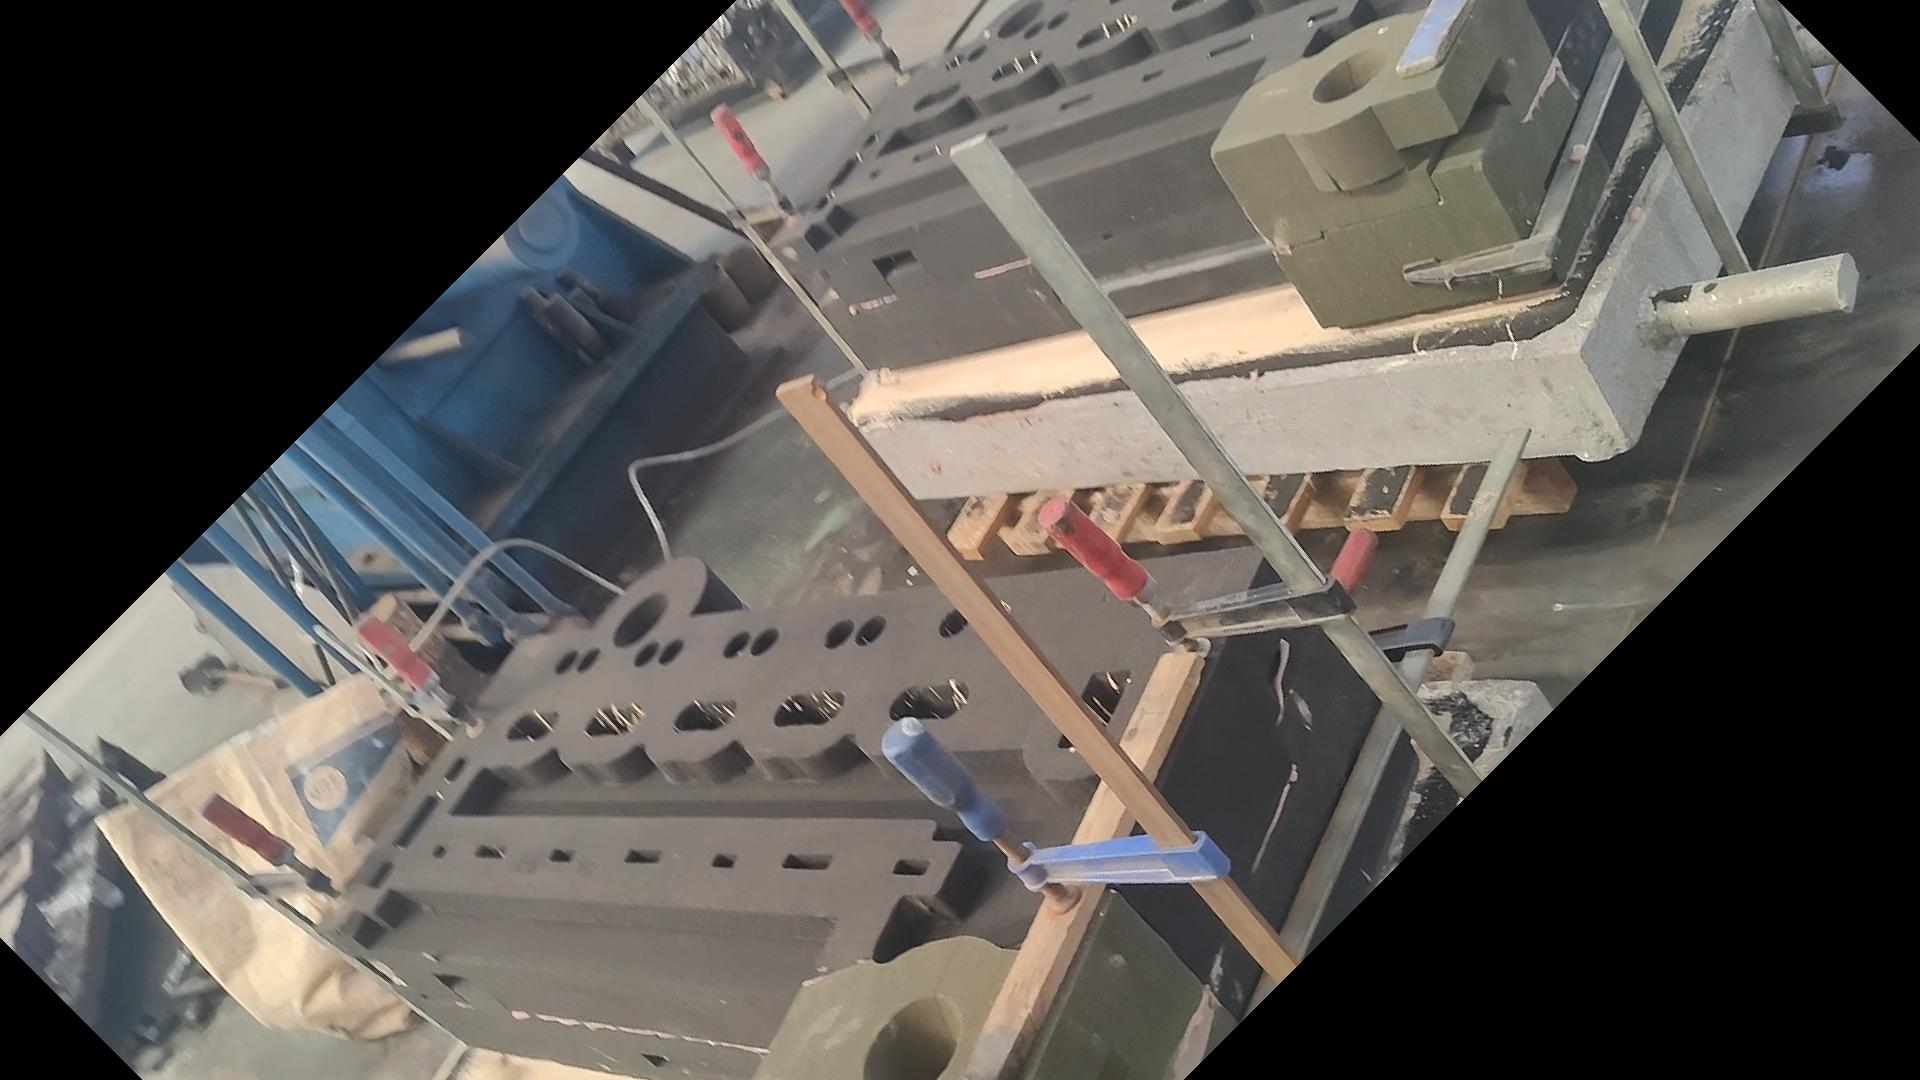pouring hole: (862, 994, 959, 1080), (1311, 47, 1389, 104), (612, 592, 669, 647), (997, 1, 1040, 41), (688, 266, 724, 287), (692, 251, 727, 270), (742, 200, 775, 220), (727, 244, 752, 266)
